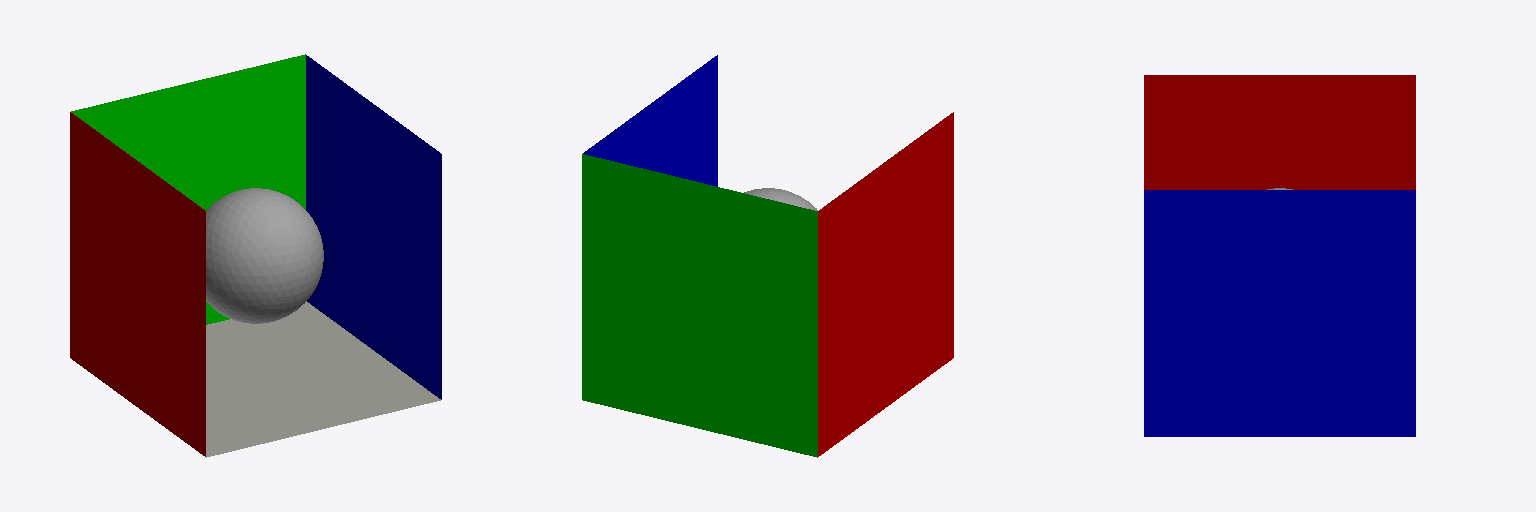
File: CornellBox-Sphere.obj
3 views of the same model, side by side, from view 1: azimuth 30°, elevation 25°; view 2: azimuth 150°, elevation 25°; view 3: azimuth 270°, elevation 25° (orthographic).
Visible parts, largest first — view 1: Enclosure_Enclosure_Cube.001, Icosphere; view 2: Enclosure_Enclosure_Cube.001, Icosphere; view 3: Enclosure_Enclosure_Cube.001.
Boxes of the visible parts, x1=… form: Enclosure_Enclosure_Cube.001: x1=70, y1=54, x2=441, y2=457; Icosphere: x1=206, y1=188, x2=323, y2=323; Enclosure_Enclosure_Cube.001: x1=582, y1=55, x2=953, y2=457; Icosphere: x1=744, y1=188, x2=817, y2=210; Enclosure_Enclosure_Cube.001: x1=1144, y1=75, x2=1415, y2=436.
Size of the model in its own units: 2 by 2 by 2.